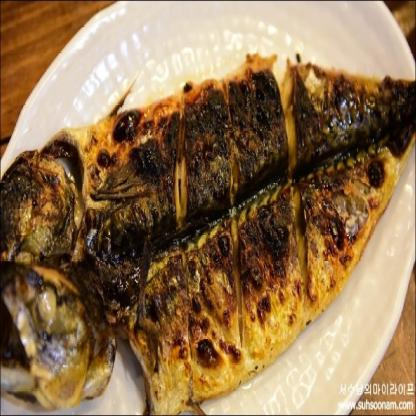Peixe: (0, 38, 416, 416)
